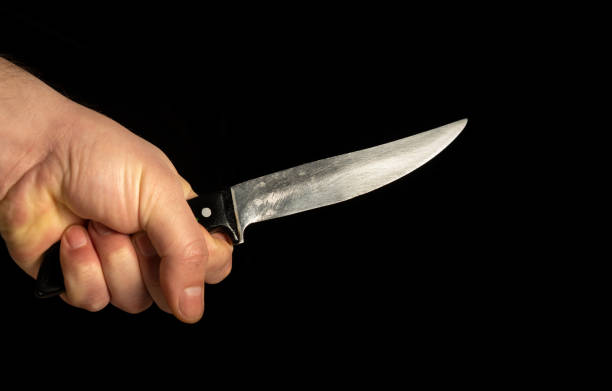knife: (184, 117, 470, 248)
